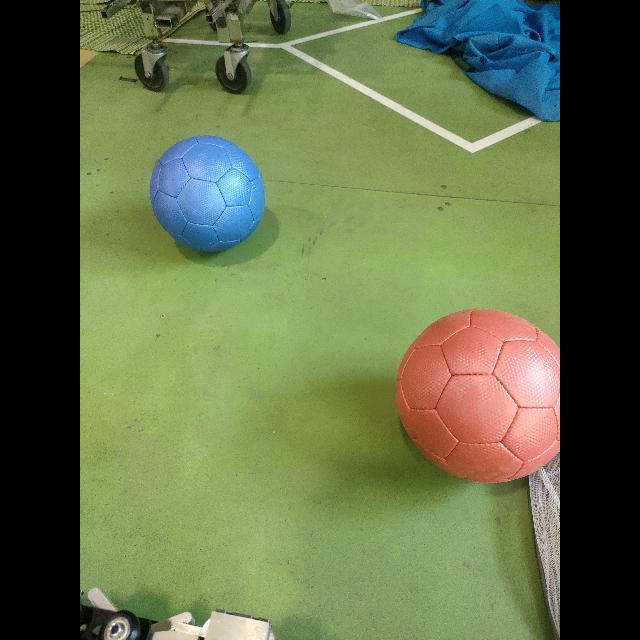B: (148, 135, 267, 260)
R: (395, 309, 560, 485)
